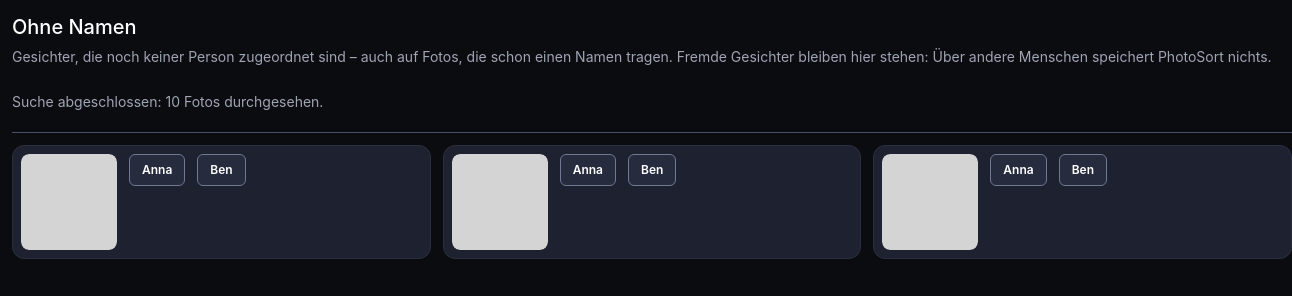
Scenario: UnnamedFacesGroup - Ablehnungen › lädt bei 404 die Personenliste neu
Click the button with aria-label "Zuordnen: Ben": (222, 170) [197, 154, 246, 186]
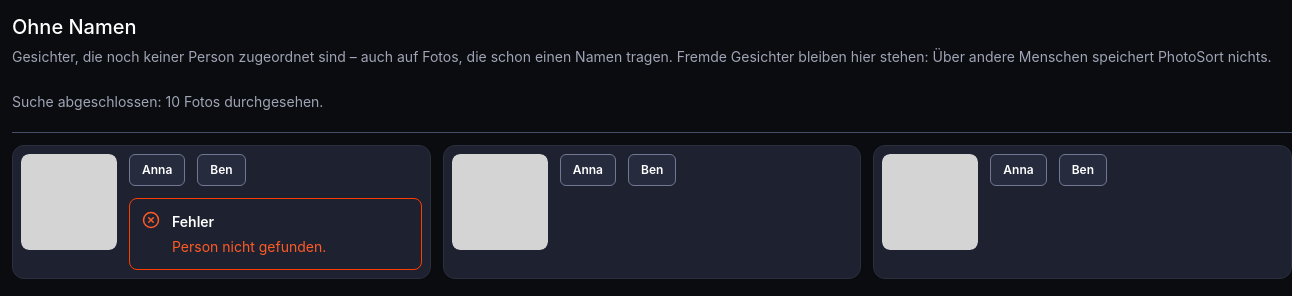
expect the message shows "Person nicht gefunden.": met, box [172, 238, 326, 255]
